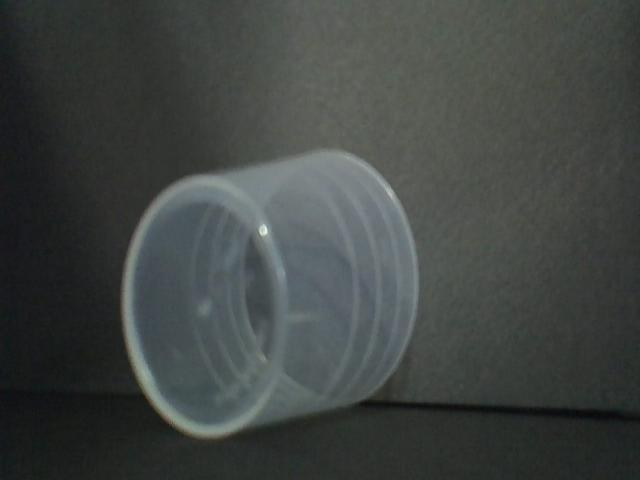cup: (117, 144, 422, 446)
